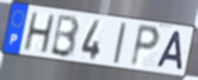4: (79, 18, 103, 62)
A: (154, 30, 183, 72)
B: (48, 14, 81, 60)
H: (21, 11, 56, 56)
I: (112, 22, 128, 66)
P: (129, 22, 162, 69)
